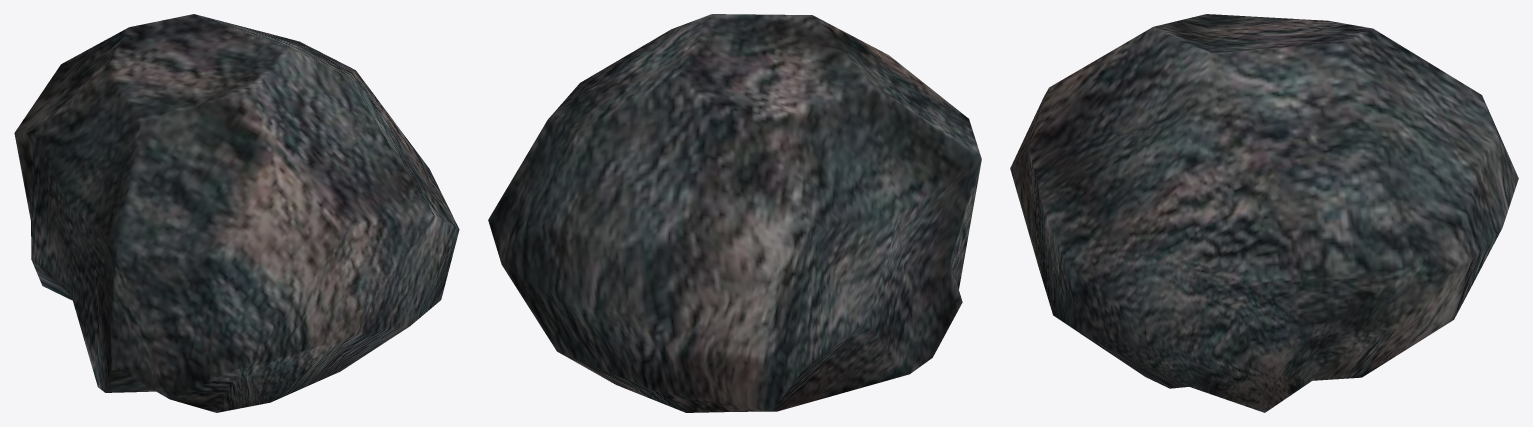
The model's file is rock.fbx.
3 renders of one model, left to right at view 1: azimuth 30°, elevation 25°; view 2: azimuth 150°, elevation 25°; view 3: azimuth 270°, elevation 25°, orthographic. The views are drawn at different scales.
Parts seen in each view (by area): view 1: Root; view 2: Root; view 3: Root.
Part boxes in pixels (x1,y1,x2,y2): Root: [14, 14, 459, 412]; Root: [488, 14, 981, 412]; Root: [1010, 14, 1518, 412].
Bounding box in the file's own units: 1.91 × 1.67 × 2.29.
